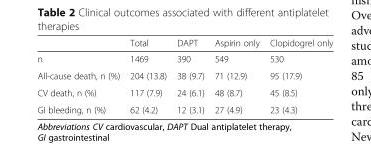table: (36, 36, 332, 114)
table column: (36, 36, 124, 114), (264, 36, 332, 114), (208, 36, 264, 114), (124, 36, 171, 114), (171, 36, 208, 114)
table column header: (36, 36, 332, 50)
table row: (36, 66, 332, 83), (36, 83, 332, 100), (36, 50, 332, 66), (36, 36, 332, 50), (36, 100, 332, 114)
